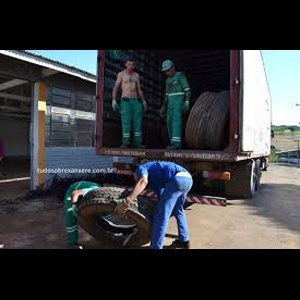tire: (75, 186, 165, 247), (184, 89, 216, 154), (207, 89, 232, 153)
